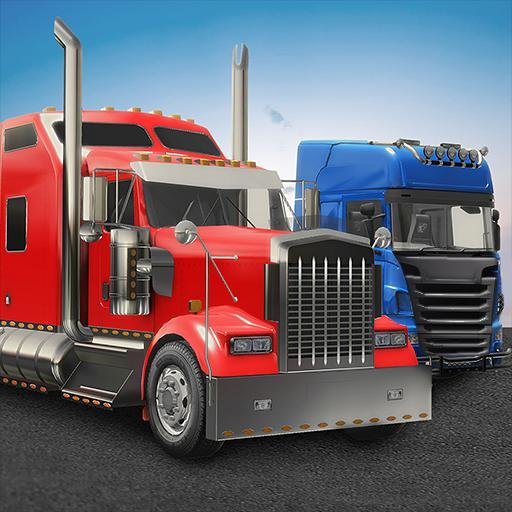truck: (1, 107, 430, 458), (293, 140, 512, 373)
